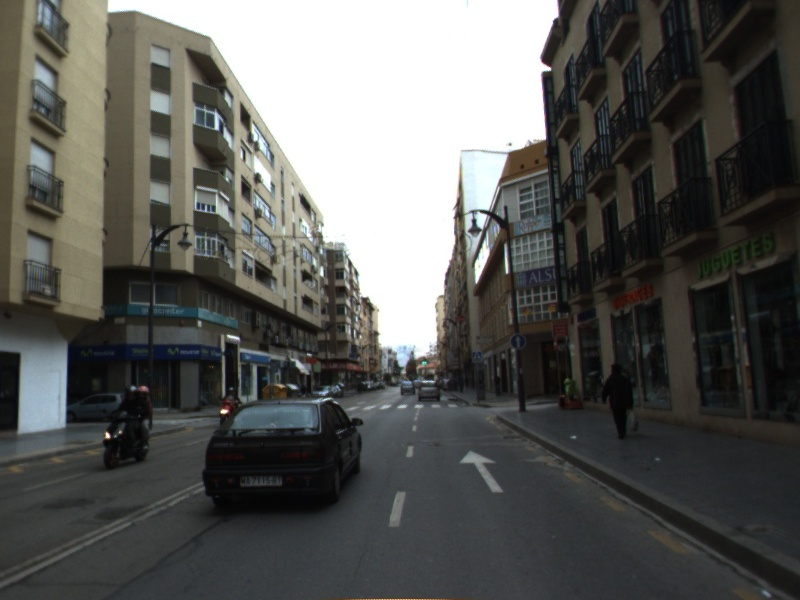STRAIGHT: (457, 448, 506, 494)
